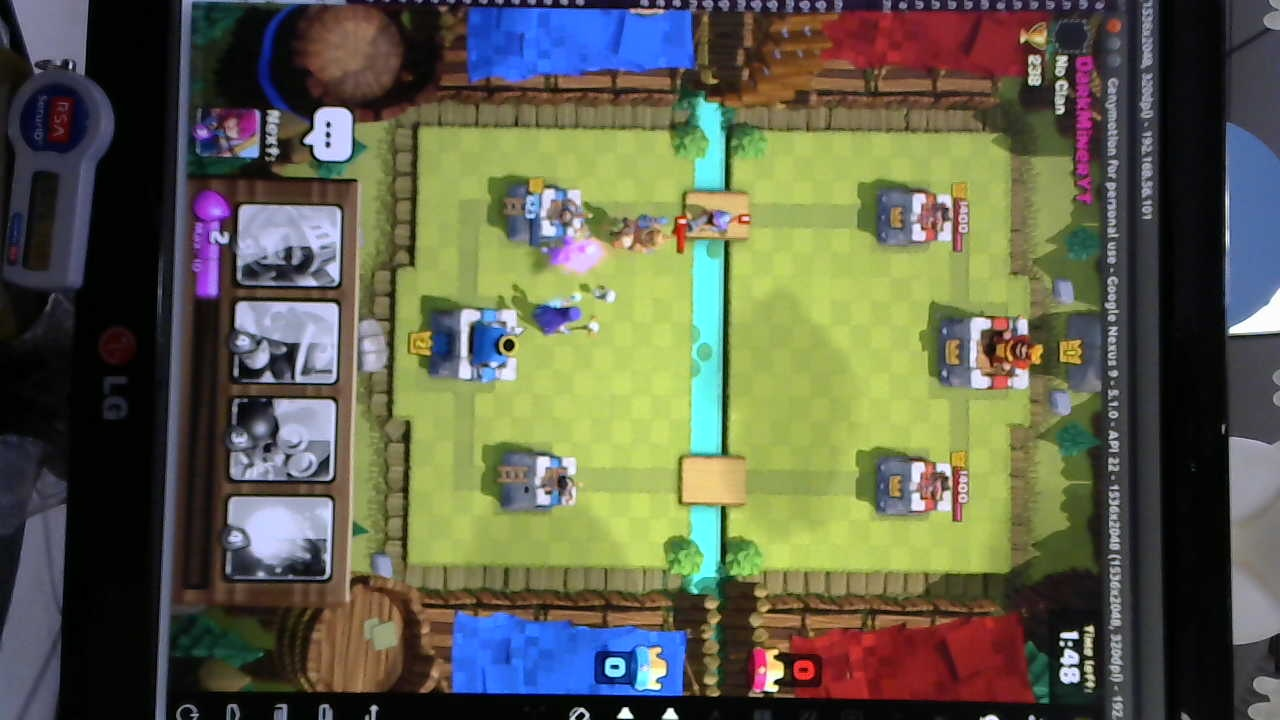arena: (494, 448, 582, 515), (503, 183, 590, 244)
earena: (872, 454, 952, 521), (874, 188, 953, 248)
eking: (931, 315, 1043, 392)
king: (432, 303, 525, 385)
musketeer: (691, 202, 735, 236)
prince: (604, 212, 676, 256)
skeleton: (567, 280, 622, 310)
witch: (526, 304, 603, 337)
